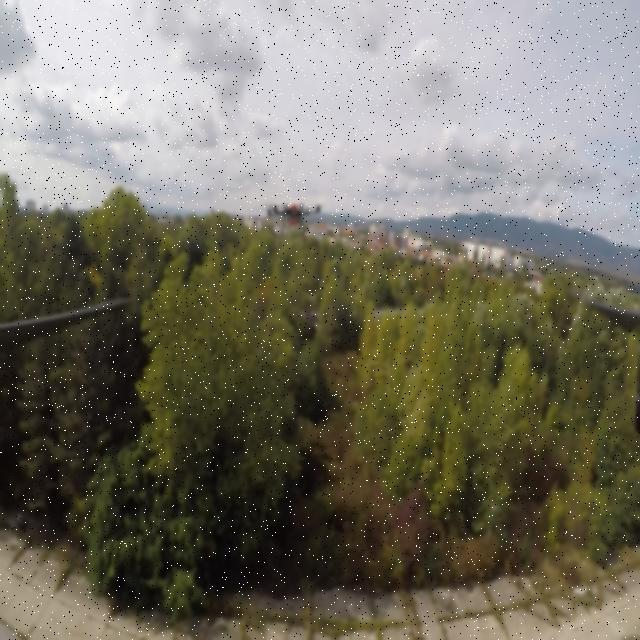UAV: (256, 196, 328, 252)
